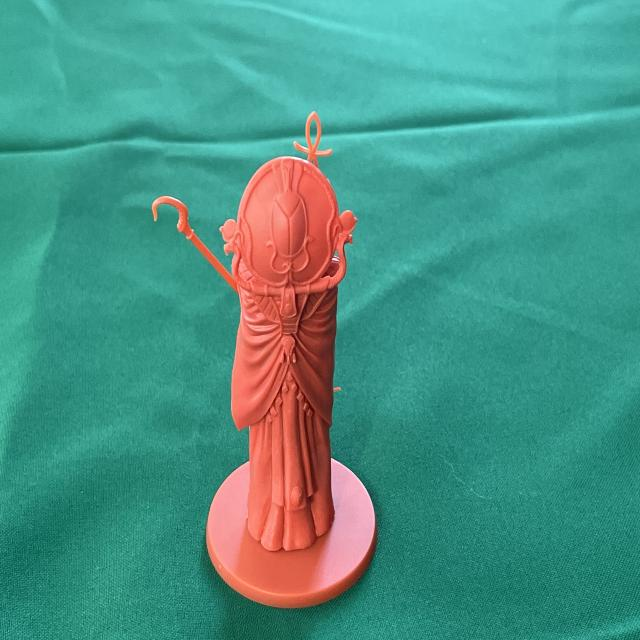amon: (145, 101, 381, 612)
